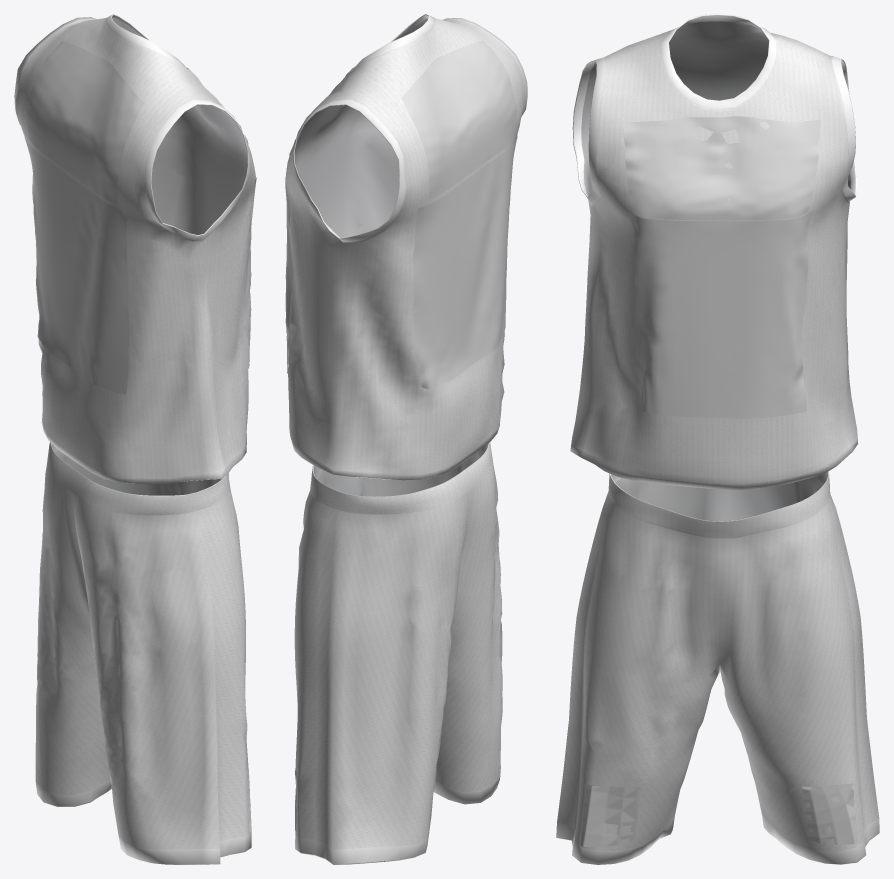
Rendered from jersey.gltf.
The picture shows the model from 3 angles, left to right: view 1: azimuth 30°, elevation 25°; view 2: azimuth 150°, elevation 25°; view 3: azimuth 270°, elevation 25°; orthographic projection. The views are drawn at different scales.
Parts seen in each view (by area): view 1: <name>_O_Neck, logo_Number_Back, logo_Name_Back, logo_Number_Front; view 2: <name>_O_Neck, logo_Number_Back, logo_Name_Back, logo_Number_Front; view 3: <name>_O_Neck, logo_Number_Front, logo_Name_Front, logo_Number_Short_Right, logo_Number_Short_Left.
Part boxes in pixels (x1,y1,x2,y2): <name>_O_Neck: (14,14,255,864); logo_Number_Back: (24,137,129,394); logo_Name_Back: (27,41,143,203); logo_Number_Front: (243,177,256,370); <name>_O_Neck: (286,14,527,864); logo_Number_Back: (412,135,517,389); logo_Name_Back: (401,40,516,199); logo_Number_Front: (285,176,293,373); <name>_O_Neck: (556,14,879,864); logo_Number_Front: (628,210,813,418); logo_Name_Front: (623,116,821,220); logo_Number_Short_Right: (580,784,640,846); logo_Number_Short_Left: (802,783,858,844).
Bounding box in the file's own units: 9.91 × 46.58 × 16.63.
10 materials, 2 textured.
